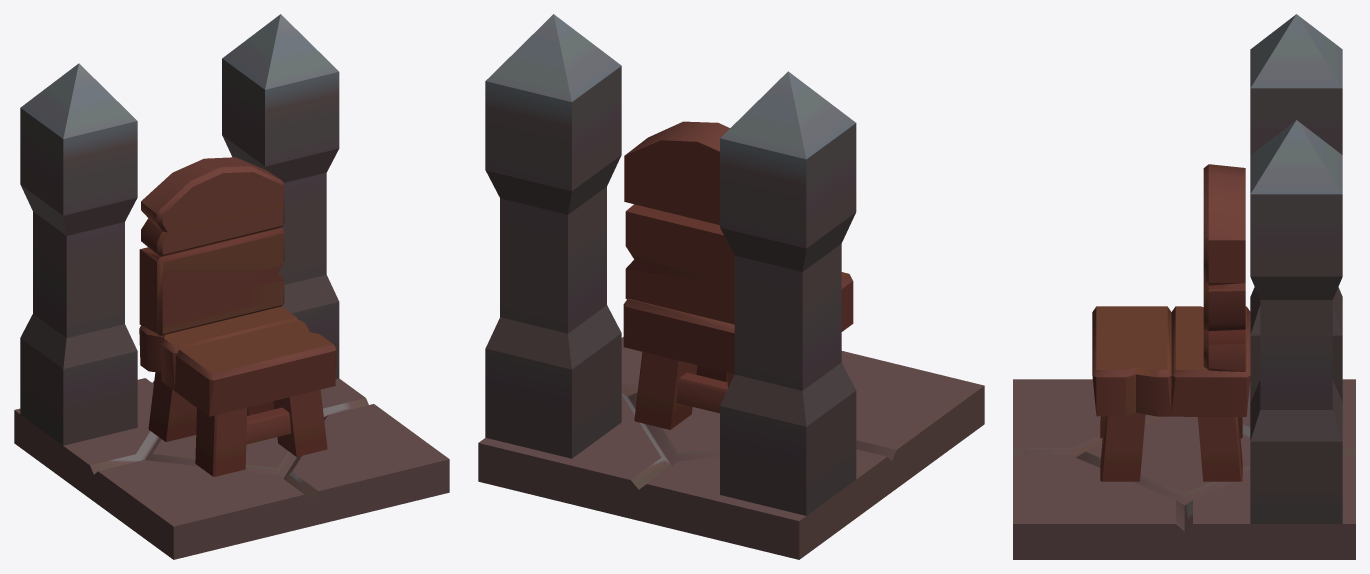
File: throne.glb
The picture shows the model from 3 angles, left to right: view 1: azimuth 30°, elevation 25°; view 2: azimuth 150°, elevation 25°; view 3: azimuth 270°, elevation 25°; orthographic projection. The views are drawn at different scales.
Visible parts, largest first — view 1: throne-seat, throne-column-left, throne-plinth, throne-column-right; view 2: throne-column-left, throne-column-right, throne-plinth, throne-seat; view 3: throne-plinth, throne-column-right, throne-seat, throne-column-left.
Boxes of the visible parts, <box> form: throne-seat: <box>139,157,336,476</box>; throne-column-left: <box>20,63,137,445</box>; throne-plinth: <box>14,378,449,559</box>; throne-column-right: <box>222,14,339,379</box>; throne-column-left: <box>720,71,856,515</box>; throne-column-right: <box>485,14,621,458</box>; throne-plinth: <box>478,337,984,559</box>; throne-seat: <box>623,121,853,429</box>; throne-plinth: <box>1013,379,1355,559</box>; throne-column-right: <box>1250,120,1342,523</box>; throne-seat: <box>1092,164,1250,481</box>; throne-column-left: <box>1250,14,1342,402</box>.
Size of the model in its own units: 2.6 by 3.52 by 2.6.
Materials: 1 (1 with a texture image).
